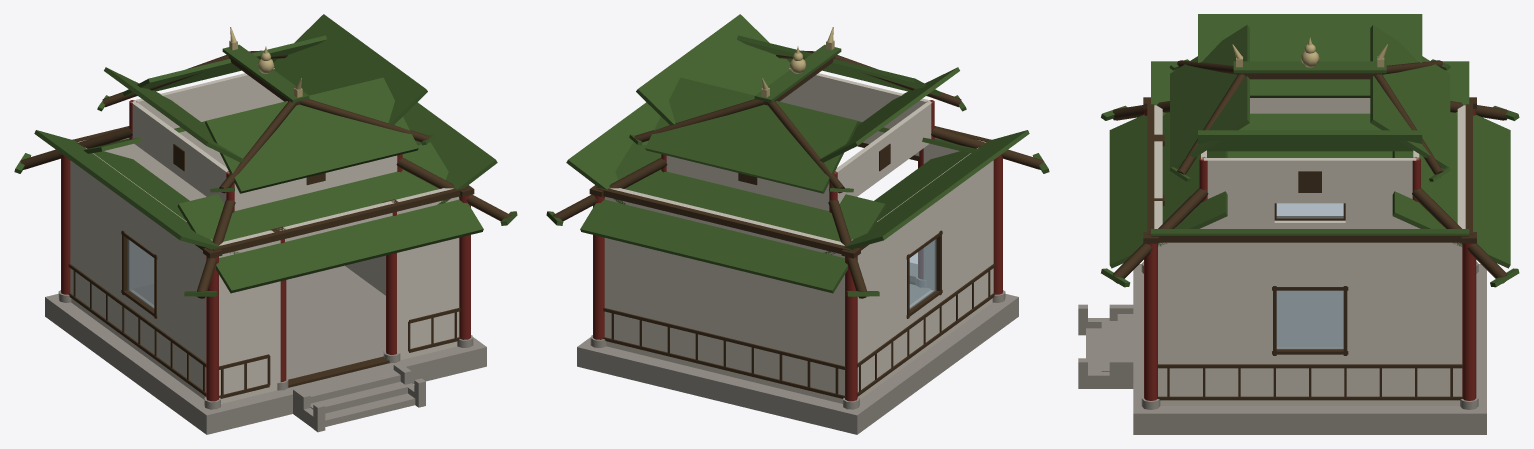
Rendered from small-vietnamese-buddhist-pagoda.glb.
3 views of the same model, side by side, from view 1: azimuth 30°, elevation 25°; view 2: azimuth 150°, elevation 25°; view 3: azimuth 270°, elevation 25° (orthographic). The views are drawn at different scales.
Visible parts, largest first — view 1: Mesh_Platform, Mesh_LowerRoofFront, Mesh_UpperRoofFront, Mesh_PagodaRoom_WallRight_L, Mesh_PagodaRoom_WallFront_R, Mesh_PagodaRoom_WallFront_L, Mesh_PagodaRoom_WallRight_R, Mesh_UpperRoofLeft, Mesh_LowerRoofRight, Mesh_ClerestoryR, Mesh_ClerestoryB, Mesh_LowerRoofLeft (+29 smaller); view 2: Mesh_PagodaRoom_WallBack, Mesh_LowerRoofBack, Mesh_Platform, Mesh_UpperRoofBack, Mesh_PagodaRoom_WallRight_R, Mesh_PagodaRoom_WallRight_L, Mesh_UpperRoofLeft, Mesh_LowerRoofRight, Mesh_ClerestoryR, Mesh_ClerestoryF, Mesh_LowerRoofLeft, Mesh_ClerestoryB (+21 smaller); view 3: Mesh_PagodaRoom_WallLeft_L, Mesh_PagodaRoom_WallLeft_R, Mesh_Platform, Mesh_UpperRoofRight, Mesh_ClerestoryL, Mesh_LowerRoofFront, Mesh_LowerRoofBack, Mesh_UpperRoofBack, Mesh_UpperRoofFront, Mesh_LowerRoofRight, Mesh_UpperRoofLeft, Mesh_Glass_L (+31 smaller).
Part boxes in pixels (x1,y1,x2,y2): Mesh_Platform: (45, 265, 486, 434); Mesh_LowerRoofFront: (177, 142, 483, 293); Mesh_UpperRoofFront: (205, 77, 418, 193); Mesh_PagodaRoom_WallRight_L: (70, 147, 132, 340); Mesh_PagodaRoom_WallFront_R: (219, 230, 280, 403); Mesh_PagodaRoom_WallFront_L: (391, 188, 459, 360); Mesh_PagodaRoom_WallRight_R: (156, 206, 212, 399); Mesh_UpperRoofLeft: (273, 14, 427, 125); Mesh_LowerRoofRight: (34, 130, 238, 254); Mesh_ClerestoryR: (131, 101, 229, 203); Mesh_ClerestoryB: (133, 68, 283, 128); Mesh_LowerRoofLeft: (403, 102, 497, 204); Mesh_PagodaRoom_WallBack: (604, 188, 844, 403); Mesh_LowerRoofBack: (580, 142, 886, 293); Mesh_Platform: (577, 270, 1018, 434); Mesh_UpperRoofBack: (645, 77, 858, 193); Mesh_PagodaRoom_WallRight_R: (931, 147, 993, 340); Mesh_PagodaRoom_WallRight_L: (851, 206, 907, 399); Mesh_UpperRoofLeft: (636, 14, 790, 125); Mesh_LowerRoofRight: (823, 130, 1029, 254); Mesh_ClerestoryR: (835, 101, 932, 203); Mesh_ClerestoryF: (780, 68, 930, 128); Mesh_LowerRoofLeft: (566, 102, 660, 204); Mesh_ClerestoryB: (666, 155, 829, 210); Mesh_PagodaRoom_WallLeft_L: (1345, 242, 1462, 405); Mesh_PagodaRoom_WallLeft_R: (1158, 242, 1274, 405); Mesh_Platform: (1133, 264, 1486, 434); Mesh_UpperRoofRight: (1198, 14, 1422, 97); Mesh_ClerestoryL: (1204, 158, 1416, 203); Mesh_LowerRoofFront: (1109, 112, 1227, 268); Mesh_LowerRoofBack: (1392, 112, 1510, 268); Mesh_UpperRoofBack: (1370, 25, 1450, 168); Mesh_UpperRoofFront: (1170, 25, 1249, 168); Mesh_LowerRoofRight: (1151, 61, 1469, 157); Mesh_UpperRoofLeft: (1198, 130, 1422, 151); Mesh_Glass_L: (1276, 290, 1343, 349).
Bounding box in the file's own units: 7.13 × 6.05 × 7.48.
Materials: 2 (2 with a texture image).
